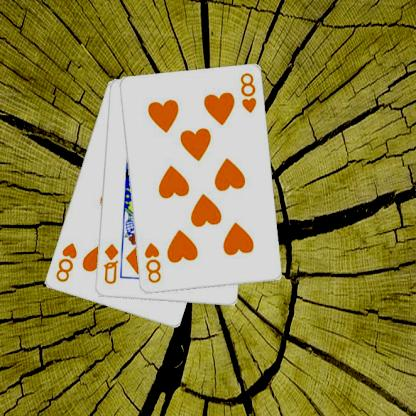8H: (54, 240, 80, 284), (143, 240, 164, 285), (240, 70, 260, 114)
QD: (102, 241, 122, 286)
